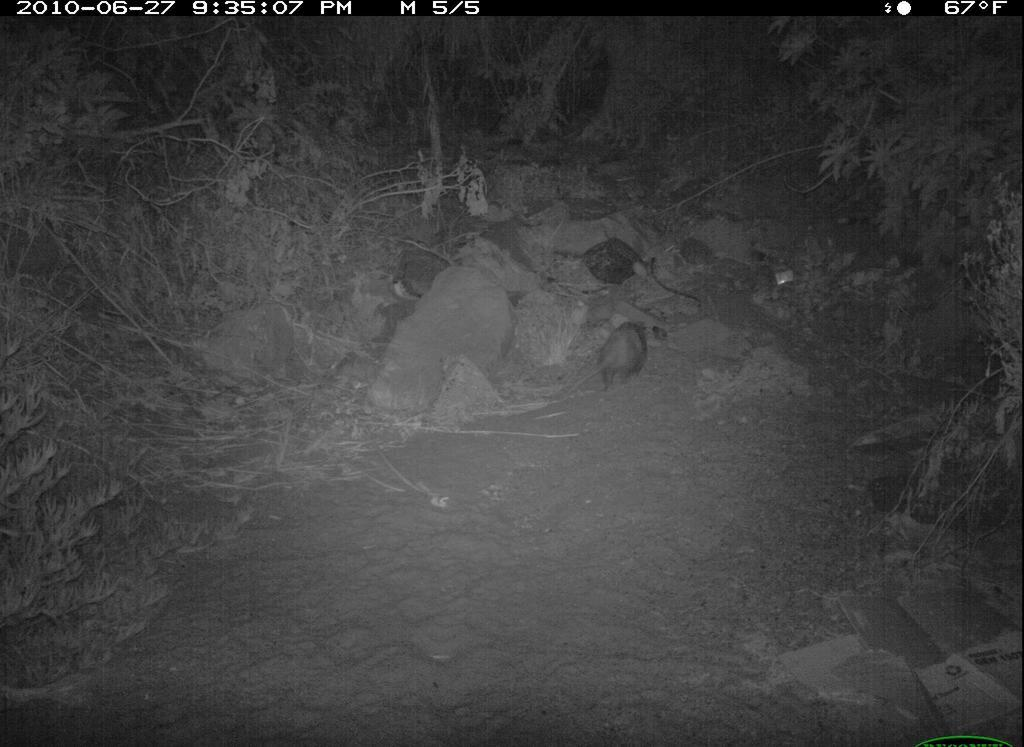opossum: (578, 318, 652, 393)
